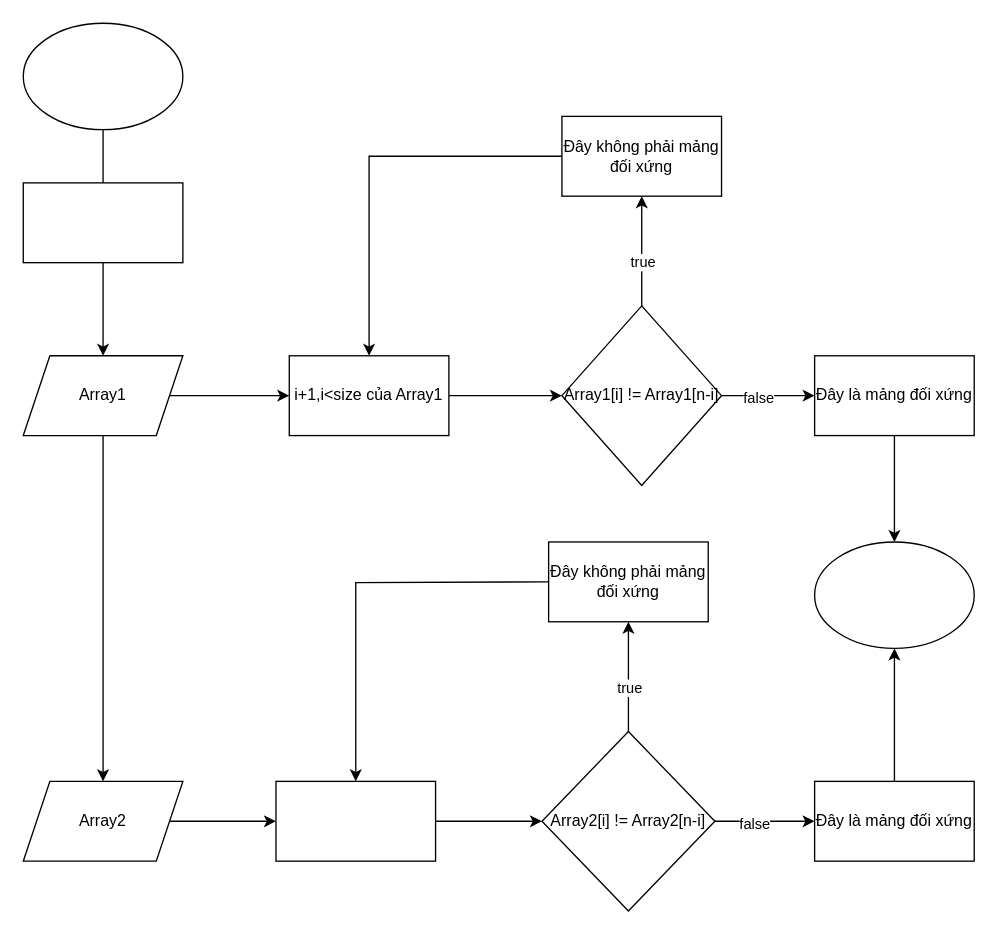
This 998x935 diagram has some shape labels left out. Here are the shapes that lost their labels. From the top down, the box of each, then its label:
(22, 22, 183, 130): Start
(22, 182, 183, 263): i=0
(813, 541, 974, 648): End
(275, 780, 436, 861): i+1,i<size của Array2
